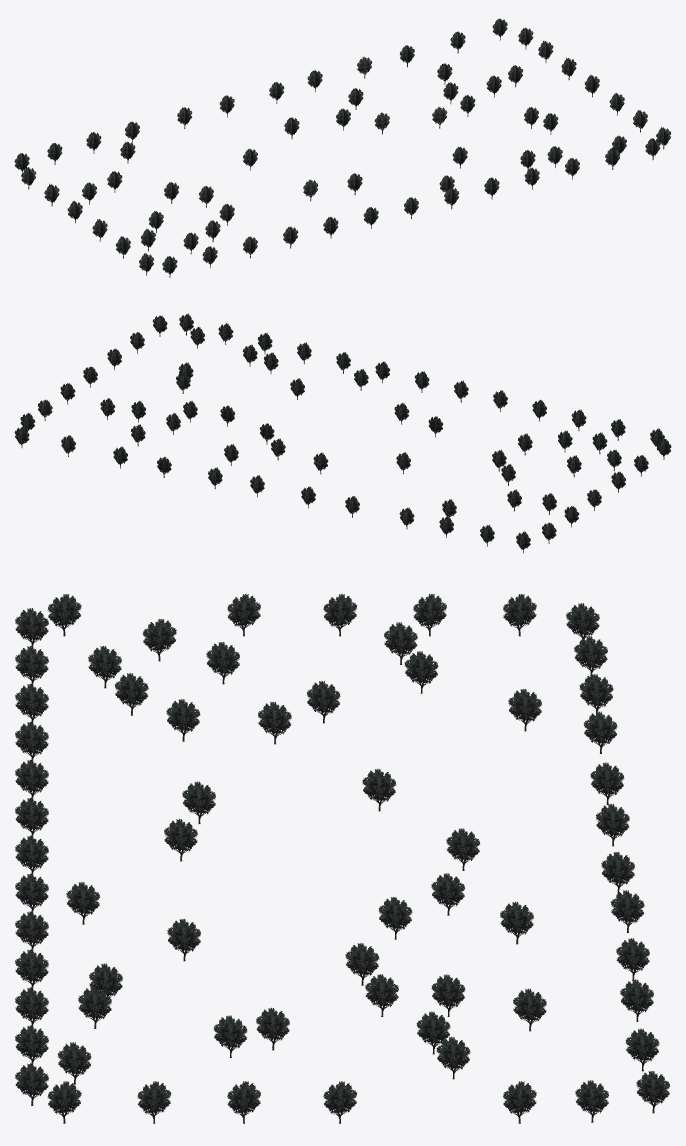
Rendered from planeTree09.FBX.
3 renders of one model, top to bottom at view 1: azimuth 30°, elevation 25°; view 2: azimuth 150°, elevation 25°; view 3: azimuth 270°, elevation 25°, orthographic. The views are drawn at different scales.
Visible parts, largest first — view 1: planeTree09; view 2: planeTree09; view 3: planeTree09.
Boxes of the visible parts, bbox=[...] form: planeTree09: bbox=[14, 18, 670, 277]; planeTree09: bbox=[14, 313, 671, 553]; planeTree09: bbox=[15, 594, 669, 1123].
Bounding box in the file's own units: 6912 × 279 × 3822.
